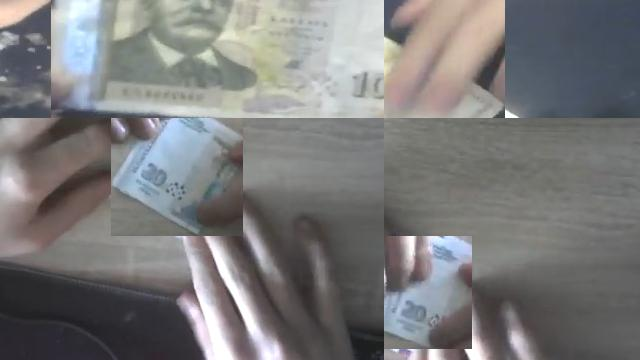10leva: (243, 0, 384, 107)
20leva: (111, 118, 243, 236), (384, 236, 472, 349)
